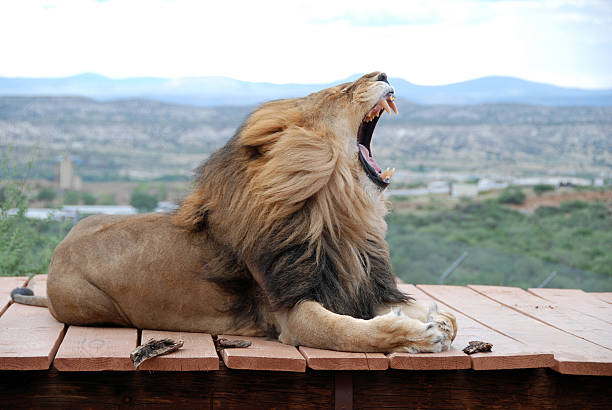lion: (162, 51, 417, 336)
